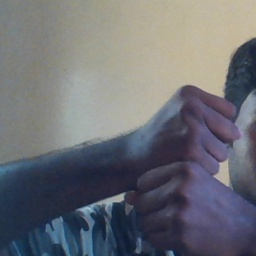G: (132, 82, 241, 252)
